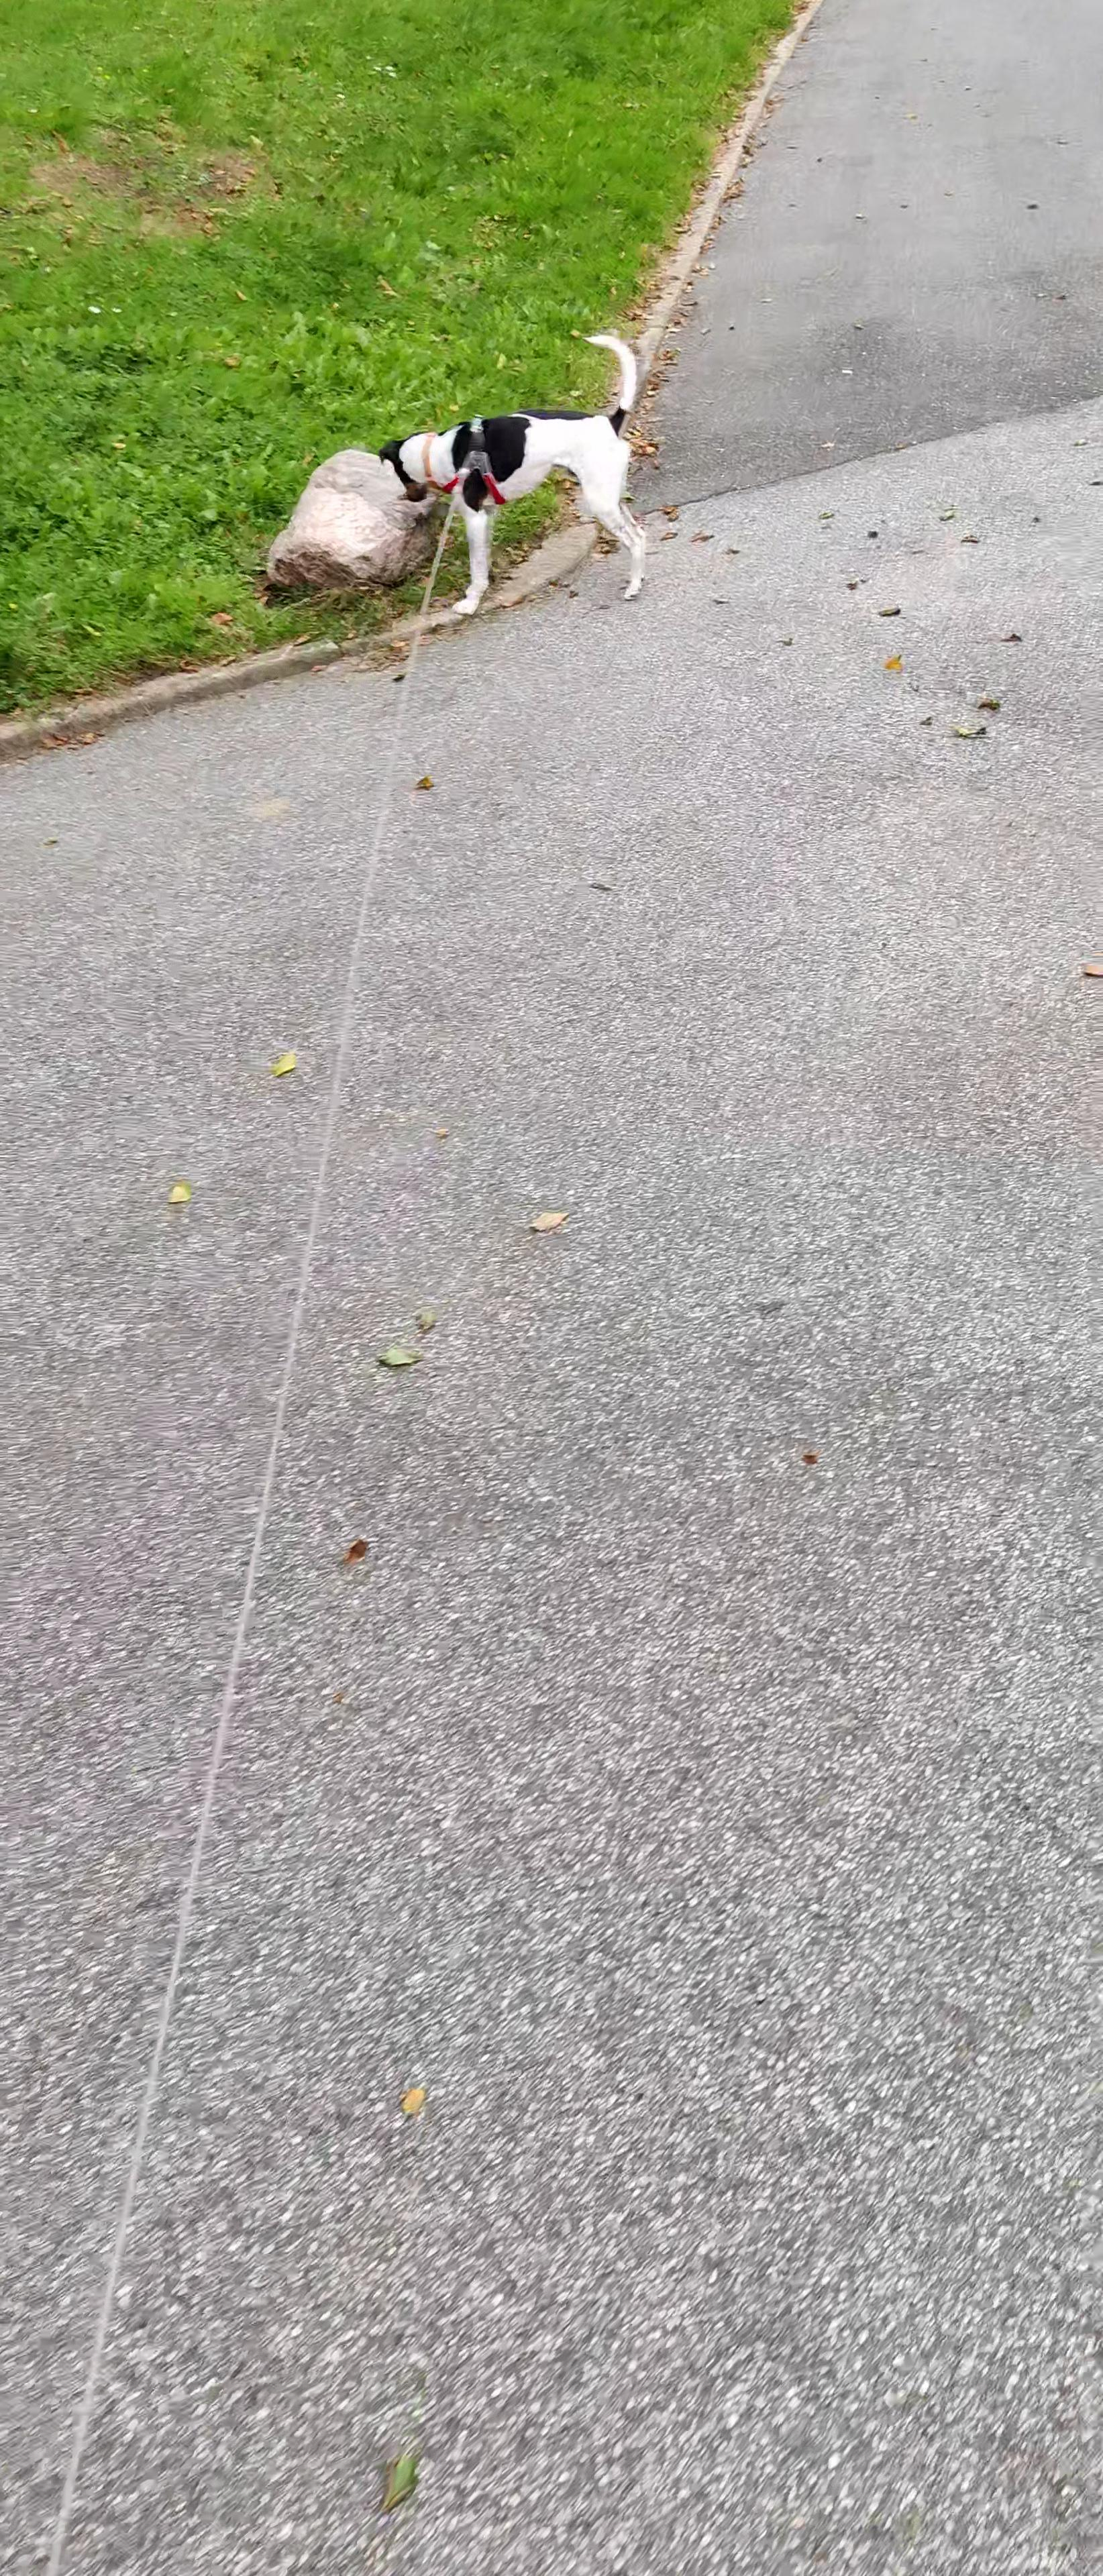Dog: (375, 330, 653, 619)
